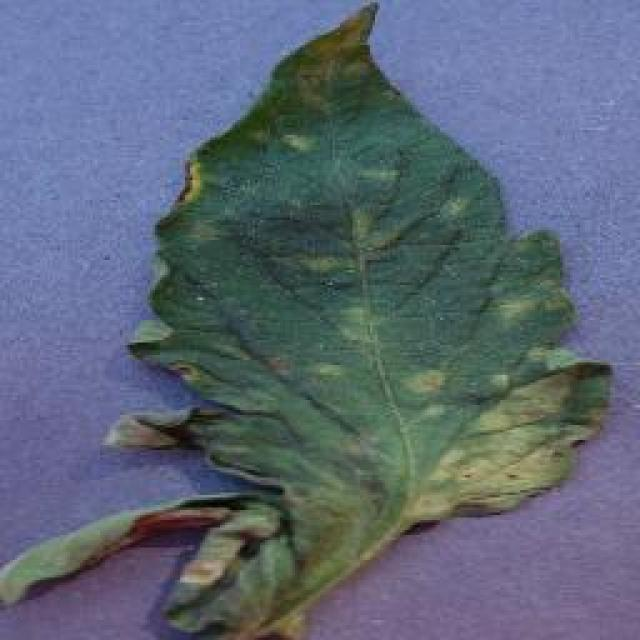Tomato mold leaf: (107, 0, 617, 640)
